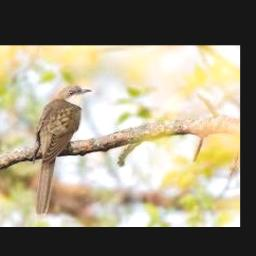Cuckoo: (34, 85, 93, 218)
